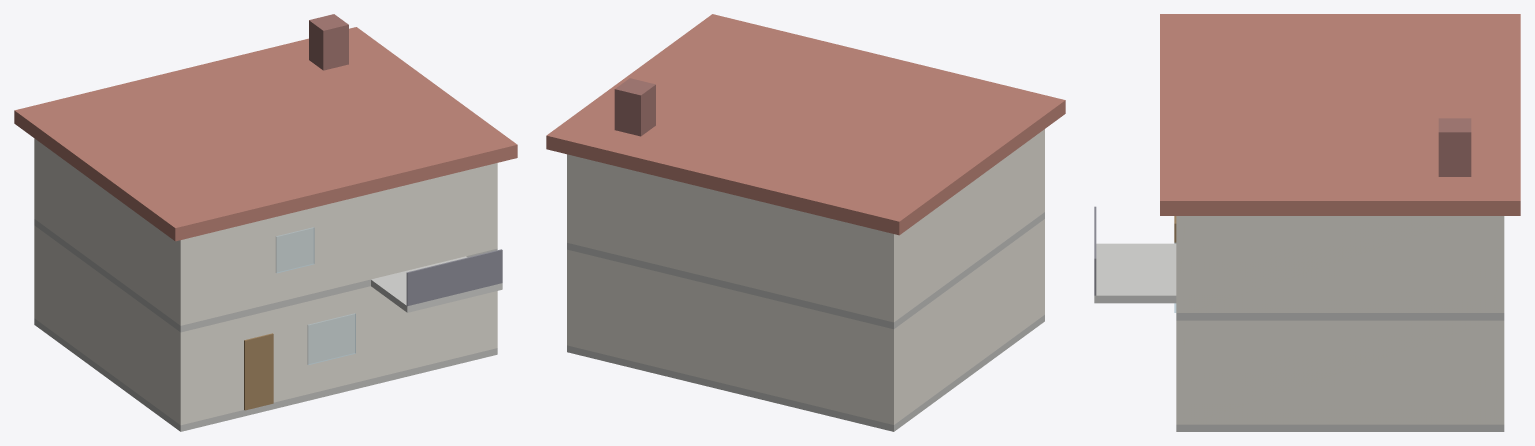
The model's file is house.glb.
The picture shows the model from 3 angles, left to right: view 1: azimuth 30°, elevation 25°; view 2: azimuth 150°, elevation 25°; view 3: azimuth 270°, elevation 25°; orthographic projection. The views are drawn at different scales.
Parts seen in each view (by area): view 1: FIXTURE000000000000014, FIXTURE000000000000008, FIXTURE000000000000002, FIXTURE000000000000004, FIXTURE000000000000010, FIXTURE000000000000019, FIXTURE000000000000001, FIXTURE000000000000007, FIXTURE000000000000015, FIXTURE000000000000016, FIXTURE000000000000020, FIXTURE000000000000018 (+1 smaller); view 2: FIXTURE000000000000014, FIXTURE000000000000003, FIXTURE000000000000009, FIXTURE000000000000004, FIXTURE000000000000010, FIXTURE000000000000001, FIXTURE000000000000007, FIXTURE000000000000020; view 3: FIXTURE000000000000014, FIXTURE000000000000005, FIXTURE000000000000011, FIXTURE000000000000018, FIXTURE000000000000007, FIXTURE000000000000001, FIXTURE000000000000020, FIXTURE000000000000002, FIXTURE000000000000003, FIXTURE000000000000008, FIXTURE000000000000009.
Boxes of the visible parts, <box> form: FIXTURE000000000000014: <box>14,27,517,241</box>; FIXTURE000000000000008: <box>176,163,497,325</box>; FIXTURE000000000000002: <box>176,286,497,425</box>; FIXTURE000000000000004: <box>39,229,176,421</box>; FIXTURE000000000000010: <box>39,142,176,322</box>; FIXTURE000000000000019: <box>406,249,502,306</box>; FIXTURE000000000000001: <box>34,318,497,431</box>; FIXTURE000000000000007: <box>34,219,497,332</box>; FIXTURE000000000000015: <box>244,333,273,410</box>; FIXTURE000000000000016: <box>307,313,355,364</box>; FIXTURE000000000000020: <box>309,14,348,70</box>; FIXTURE000000000000018: <box>371,256,502,312</box>; FIXTURE000000000000014: <box>546,14,1065,235</box>; FIXTURE000000000000003: <box>567,249,898,424</box>; FIXTURE000000000000009: <box>567,154,898,322</box>; FIXTURE000000000000004: <box>898,222,1040,421</box>; FIXTURE000000000000010: <box>898,132,1040,318</box>; FIXTURE000000000000001: <box>567,315,1044,431</box>; FIXTURE000000000000007: <box>567,212,1044,329</box>; FIXTURE000000000000020: <box>614,78,655,136</box>; FIXTURE000000000000014: <box>1160,14,1520,215</box>; FIXTURE000000000000005: <box>1186,320,1493,424</box>; FIXTURE000000000000011: <box>1186,216,1493,312</box>; FIXTURE000000000000018: <box>1094,243,1176,303</box>; FIXTURE000000000000007: <box>1176,313,1504,320</box>; FIXTURE000000000000001: <box>1176,424,1504,431</box>; FIXTURE000000000000020: <box>1438,118,1471,176</box>; FIXTURE000000000000002: <box>1176,320,1186,424</box>; FIXTURE000000000000003: <box>1494,320,1504,424</box>; FIXTURE000000000000008: <box>1176,216,1186,312</box>; FIXTURE000000000000009: <box>1494,216,1504,312</box>.
Bounding box in the file's own units: 10.8 × 7.6 × 10.4.
